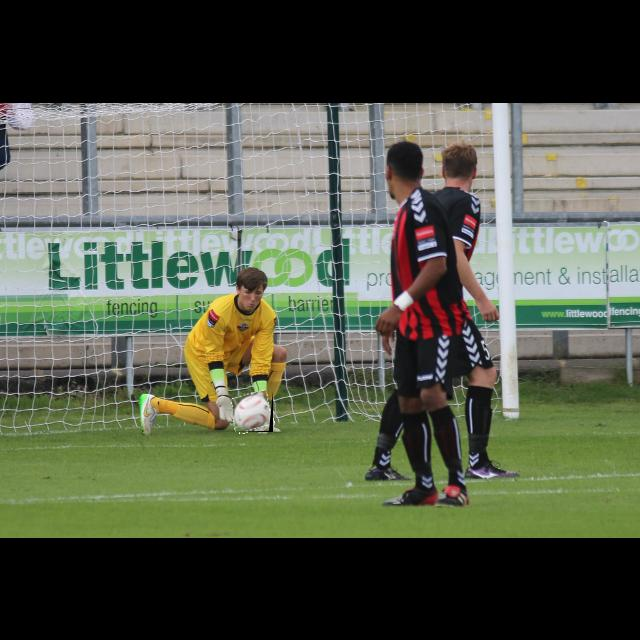Football: (233, 392, 273, 432)
